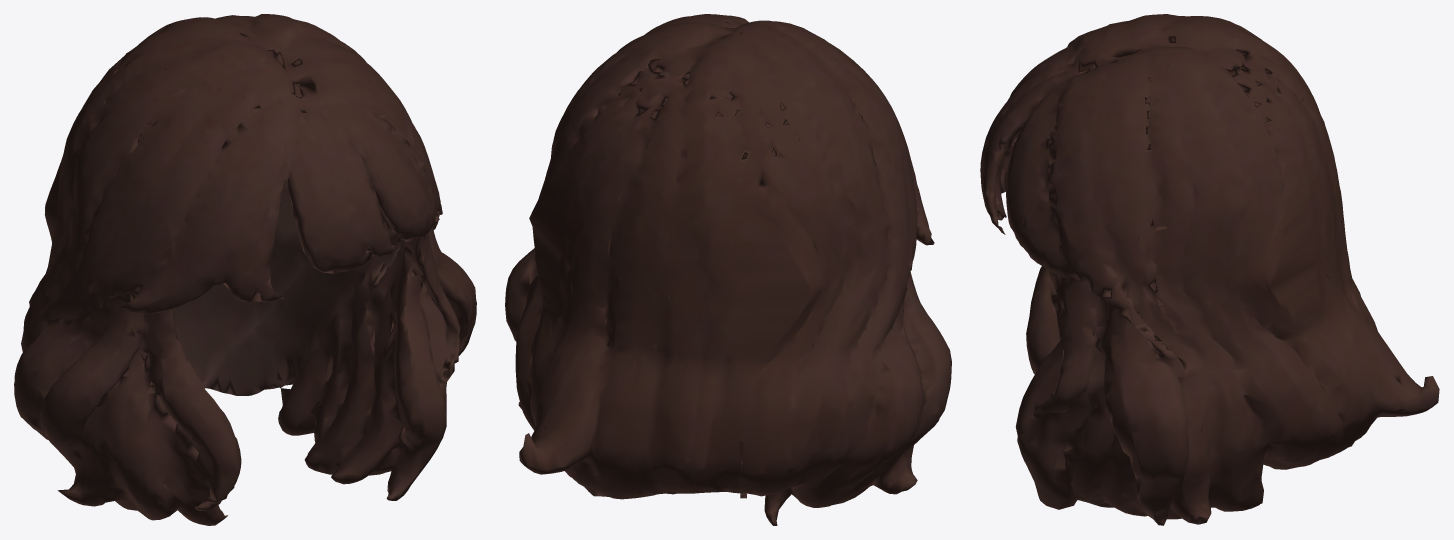
Rendered from lezzet-hair-wavy.glb.
The picture shows the model from 3 angles, left to right: view 1: azimuth 30°, elevation 25°; view 2: azimuth 150°, elevation 25°; view 3: azimuth 270°, elevation 25°; orthographic projection. The views are drawn at different scales.
Visible parts, largest first — view 1: Hair_Wavy; view 2: Hair_Wavy; view 3: Hair_Wavy.
Part boxes in pixels (<box>): Hair_Wavy: <box>14,14,476,525</box>; Hair_Wavy: <box>505,14,951,525</box>; Hair_Wavy: <box>980,14,1439,525</box>.
Bounding box in the file's own units: 1.59 × 1.59 × 1.52.
